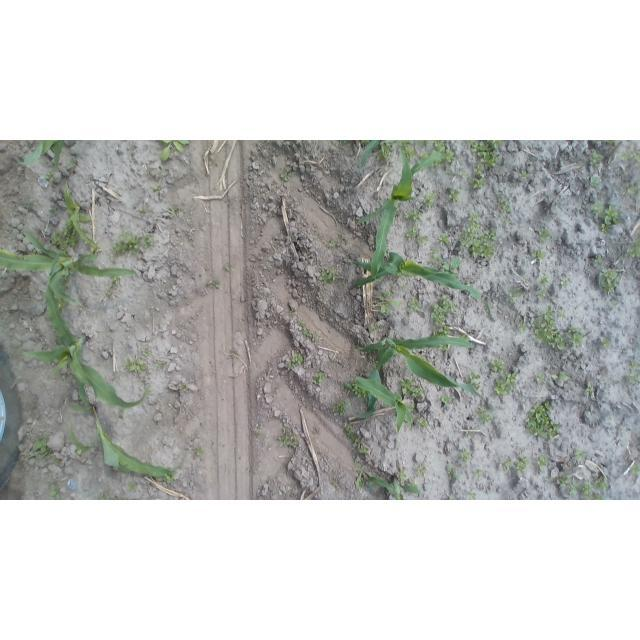Maize: (24, 248, 149, 409), (355, 148, 441, 281), (345, 338, 484, 419), (0, 230, 136, 307), (352, 252, 491, 318), (68, 405, 185, 477), (354, 376, 413, 435), (12, 140, 76, 172), (64, 188, 97, 249), (368, 473, 421, 500), (359, 141, 382, 172)
Weeds: (530, 308, 567, 351), (524, 398, 561, 440), (431, 295, 452, 337), (32, 437, 61, 466), (456, 213, 480, 247), (111, 229, 140, 255), (345, 423, 367, 454), (421, 141, 446, 167), (597, 271, 620, 298), (495, 371, 518, 397), (161, 140, 190, 160), (378, 290, 400, 315), (468, 236, 494, 256), (353, 463, 372, 488), (340, 380, 366, 398), (62, 220, 79, 246), (588, 199, 609, 220), (277, 432, 298, 449), (299, 321, 315, 342), (603, 205, 618, 227), (125, 359, 148, 373), (351, 449, 372, 464), (399, 378, 417, 394), (480, 152, 498, 168), (377, 145, 393, 163), (564, 331, 585, 344), (534, 289, 555, 302), (621, 149, 640, 162), (443, 258, 460, 272), (472, 141, 487, 156), (445, 464, 459, 480), (488, 359, 505, 372), (424, 193, 437, 210), (594, 336, 611, 349), (627, 241, 640, 258), (625, 182, 640, 196), (332, 400, 345, 416), (477, 410, 493, 423), (508, 287, 522, 301), (580, 480, 592, 496), (464, 372, 480, 384), (313, 373, 326, 387), (538, 229, 551, 243), (595, 478, 607, 493), (407, 300, 422, 312), (589, 152, 604, 164), (51, 484, 62, 500), (552, 371, 569, 381), (625, 372, 639, 384), (487, 141, 502, 152), (537, 455, 547, 471), (517, 454, 530, 466), (318, 272, 332, 283), (406, 211, 420, 222), (449, 190, 460, 203), (556, 476, 570, 486), (573, 449, 585, 460), (418, 418, 429, 430), (533, 250, 544, 262), (501, 201, 512, 213), (472, 177, 484, 188), (155, 359, 167, 370), (126, 481, 138, 492), (292, 354, 304, 365), (143, 236, 153, 249), (51, 232, 61, 245), (406, 146, 415, 160), (441, 395, 452, 406), (569, 485, 577, 500), (535, 372, 545, 384), (413, 386, 423, 398), (485, 230, 497, 240), (440, 234, 449, 247), (194, 444, 203, 457), (592, 175, 601, 188), (592, 490, 603, 500), (519, 169, 530, 179), (474, 164, 485, 174), (111, 277, 121, 288), (406, 228, 415, 240), (632, 461, 640, 474), (446, 151, 454, 164), (515, 462, 525, 472), (416, 465, 426, 475), (461, 450, 470, 461), (419, 236, 430, 245), (630, 359, 639, 370), (62, 278, 69, 291), (118, 407, 125, 420), (396, 472, 406, 481), (369, 322, 378, 332), (326, 268, 336, 277), (177, 384, 187, 393), (540, 274, 549, 284), (474, 469, 482, 480), (431, 257, 442, 265), (213, 278, 221, 289), (285, 362, 294, 371), (503, 460, 511, 470), (169, 206, 179, 214), (46, 171, 54, 181), (56, 300, 66, 308), (164, 474, 172, 484), (560, 278, 568, 288), (97, 493, 108, 500), (328, 240, 336, 249), (224, 263, 232, 272), (567, 325, 576, 333), (518, 324, 526, 333), (594, 255, 602, 264), (50, 203, 57, 213), (472, 382, 480, 390), (504, 218, 511, 227), (24, 203, 34, 209), (461, 335, 471, 341), (587, 384, 594, 392), (431, 247, 438, 255), (319, 233, 326, 240), (468, 491, 476, 497), (139, 207, 145, 215), (440, 346, 449, 351), (460, 172, 466, 179), (143, 350, 149, 357), (255, 429, 261, 436), (338, 140, 348, 144), (155, 185, 161, 191), (361, 140, 369, 144), (445, 168, 451, 173)
